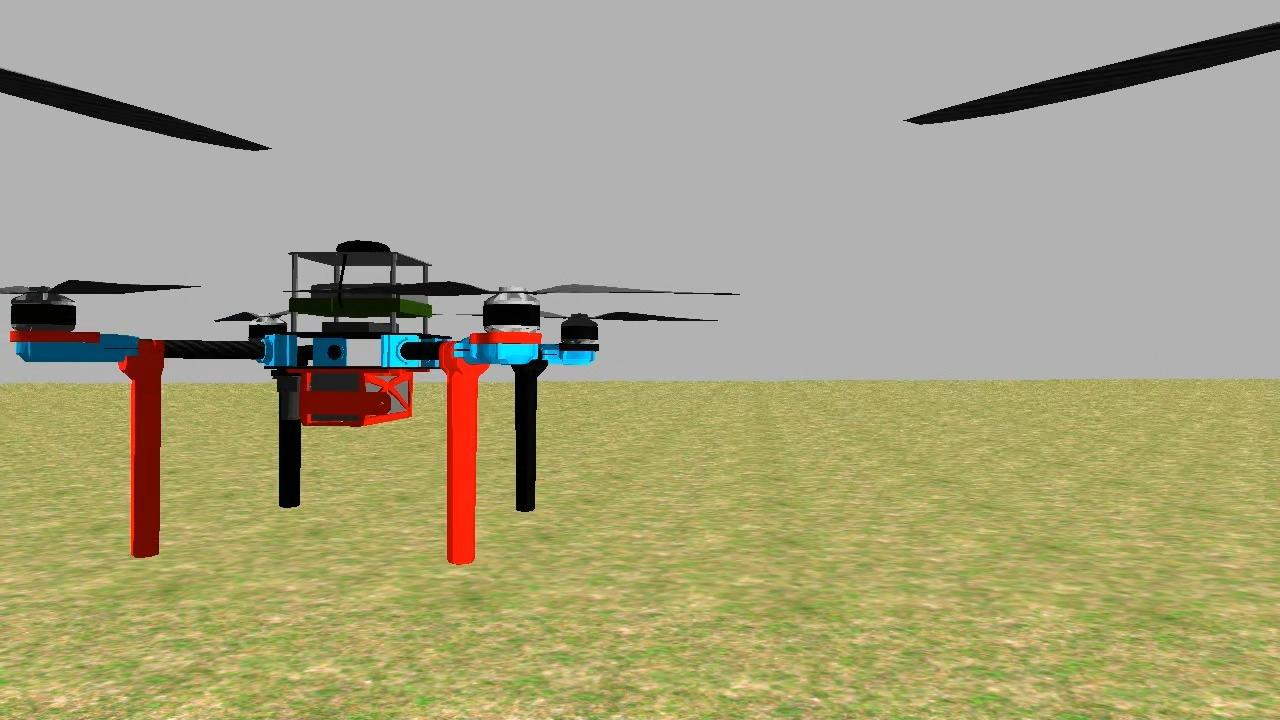UAV: (1, 234, 607, 574)
